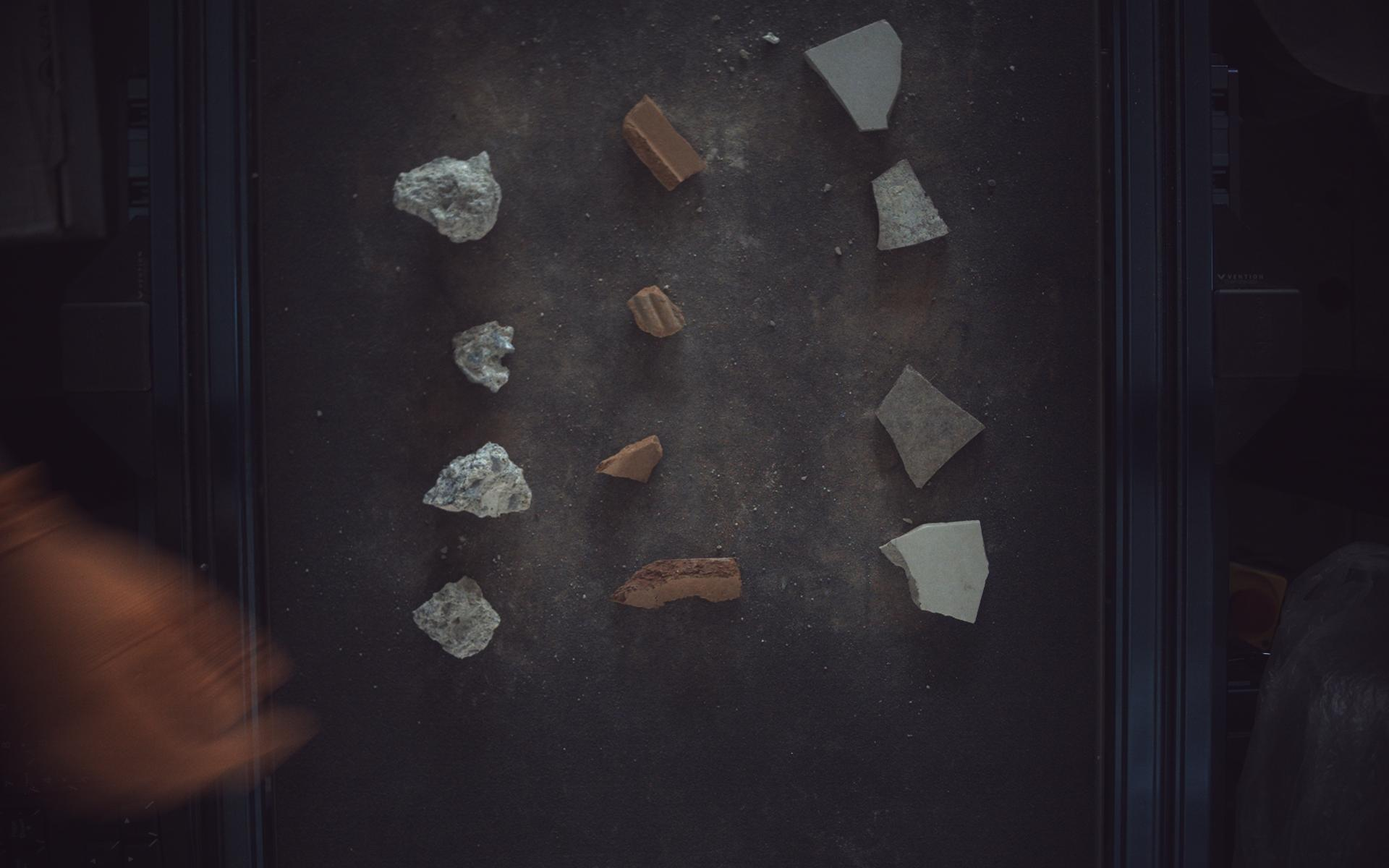brick: (623, 95, 707, 190), (611, 558, 742, 609), (596, 435, 664, 482), (628, 286, 687, 337)
concrete: (394, 150, 502, 242), (422, 443, 532, 518), (413, 577, 501, 659), (454, 321, 514, 392)
tile: (878, 365, 987, 488), (882, 522, 991, 624), (807, 18, 904, 130), (874, 158, 951, 250)
